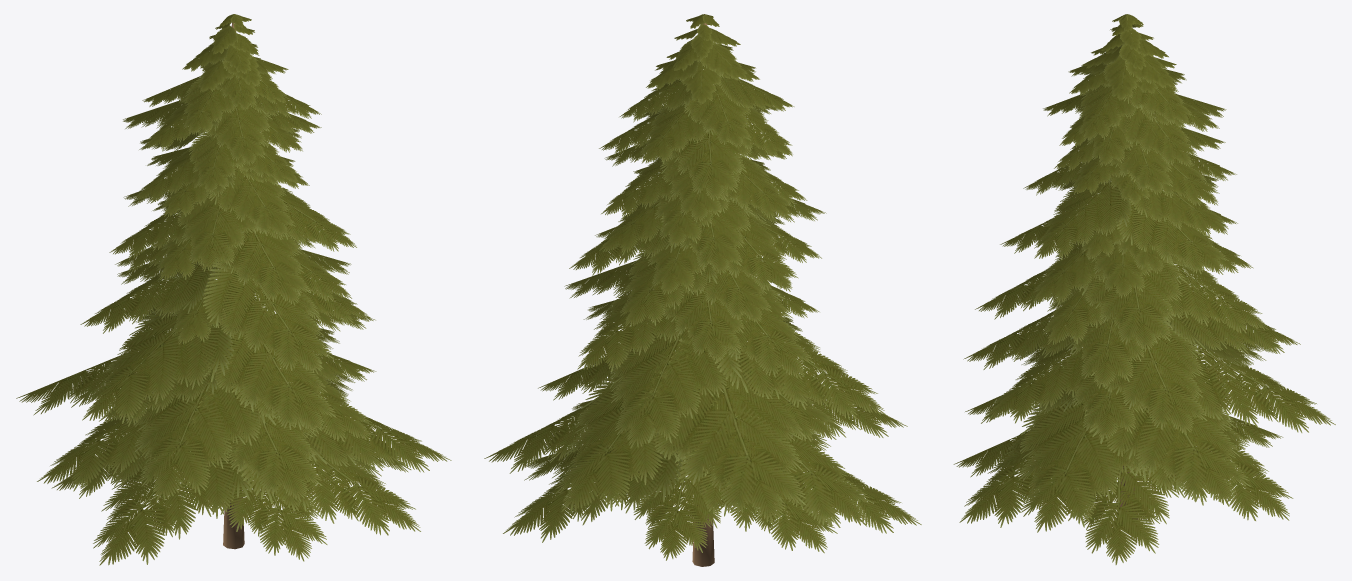
File: woodlands-tree-01.glb
3 views of the same model, side by side, from view 1: azimuth 30°, elevation 25°; view 2: azimuth 150°, elevation 25°; view 3: azimuth 270°, elevation 25° (orthographic). The views are drawn at different scales.
Visible parts, largest first — view 1: woodlands-tree-01; view 2: woodlands-tree-01; view 3: woodlands-tree-01.
Boxes of the visible parts, x1,y1,x2,y2 form: woodlands-tree-01: (16, 14, 451, 565); woodlands-tree-01: (484, 14, 921, 566); woodlands-tree-01: (953, 14, 1335, 564).
Size of the model in its own units: 5.34 by 7.51 by 5.12.
Materials: 2 (1 with a texture image).
